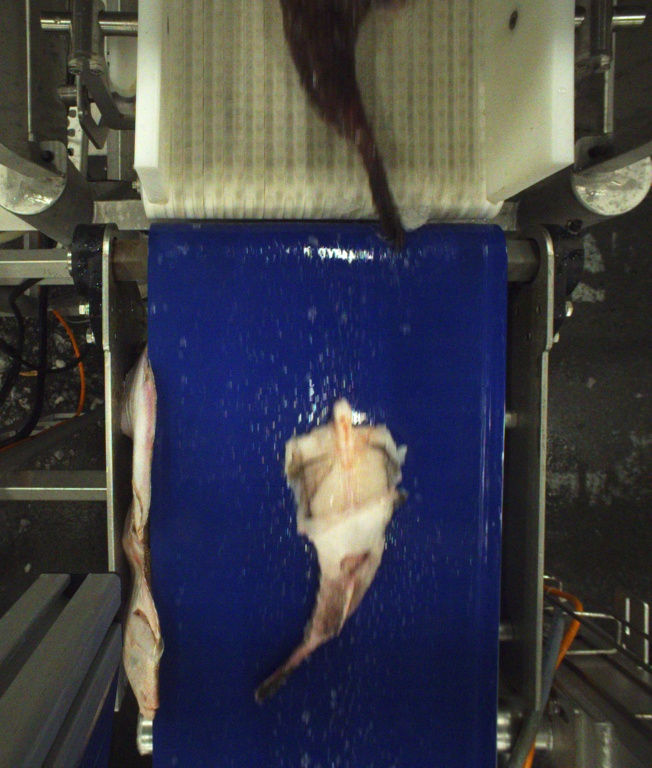ANF: (282, 0, 406, 250)
